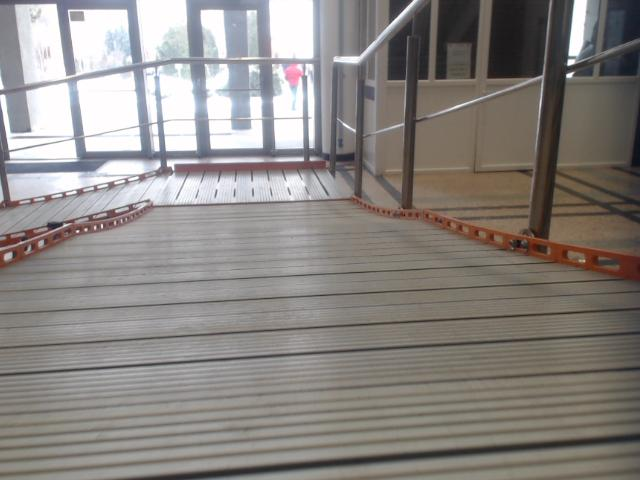rampDown: (0, 166, 639, 479)
ramps-railing: (357, 0, 639, 238), (0, 58, 319, 207), (330, 0, 430, 171), (301, 75, 308, 165)
